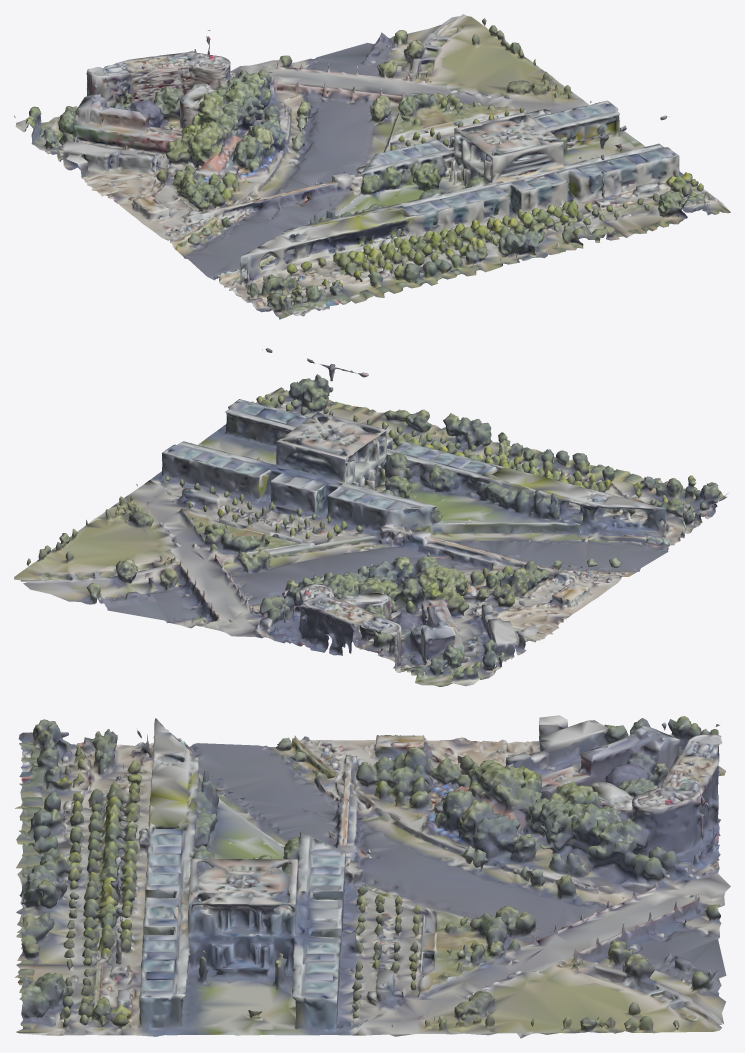
File: tile-3890_58200.glb
3 renders of one model, top to bottom at view 1: azimuth 30°, elevation 25°; view 2: azimuth 150°, elevation 25°; view 3: azimuth 270°, elevation 25°, orthographic. The views are drawn at different scales.
Parts seen in each view (by area): view 1: world; view 2: world; view 3: world.
Part boxes in pixels (bbox=[...]): world: bbox=[14, 14, 730, 319]; world: bbox=[14, 348, 728, 686]; world: bbox=[15, 715, 730, 1038].
Bounding box in the file's own units: 367 × 62.66 × 372.
